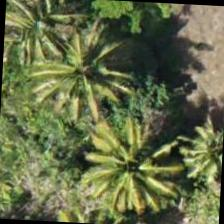Kelapa_Sawit: (86, 119, 182, 214), (35, 18, 130, 113), (2, 0, 89, 77)
